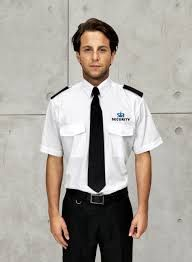uniform: (46, 81, 147, 249)
